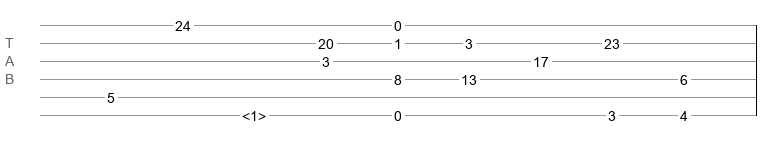0: (394, 18, 402, 28), (394, 108, 402, 118)
1: (394, 36, 402, 46)
13: (461, 72, 477, 82)
17: (533, 54, 549, 64)
20: (318, 36, 334, 46)
23: (604, 36, 620, 46)
24: (175, 18, 191, 28)
3: (322, 54, 330, 64), (465, 36, 473, 46), (608, 108, 616, 118)
4: (680, 108, 688, 118)
5: (107, 90, 115, 100)
6: (680, 72, 688, 82)
8: (394, 72, 402, 82)
harmonic: (242, 108, 266, 118)
